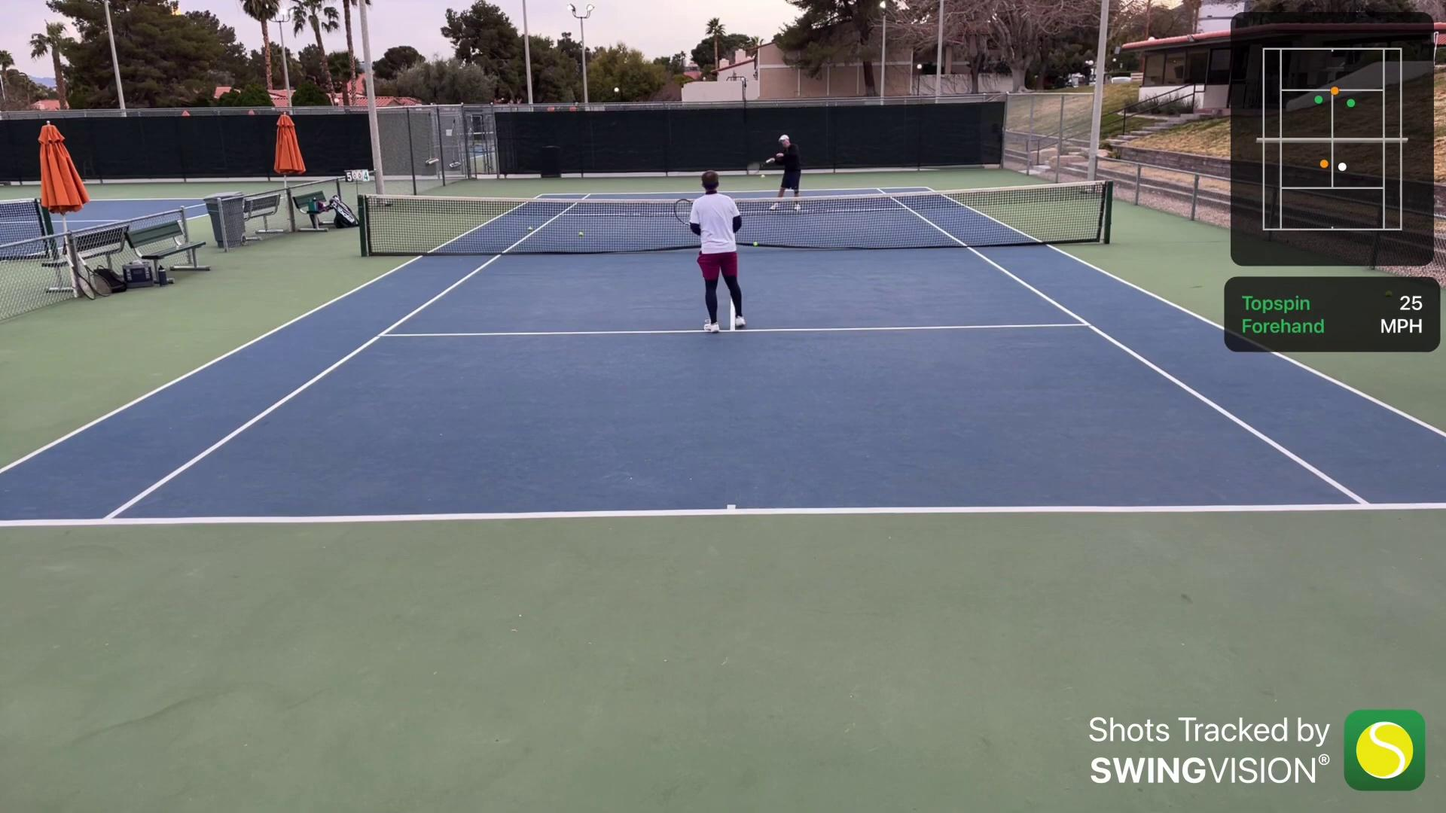ball: (526, 224, 536, 232), (752, 240, 759, 247), (760, 173, 766, 180), (577, 230, 584, 236)
